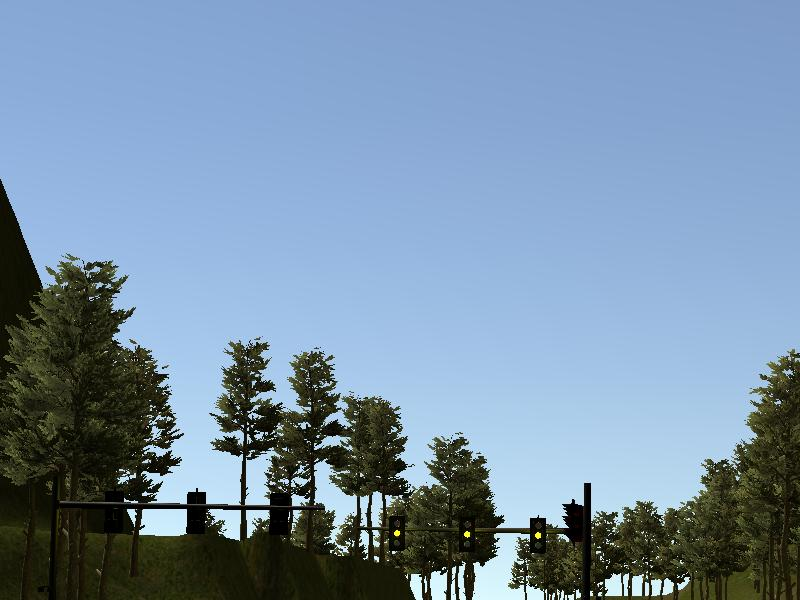Yellow: (527, 517, 547, 554), (386, 515, 405, 550), (458, 520, 474, 549)
